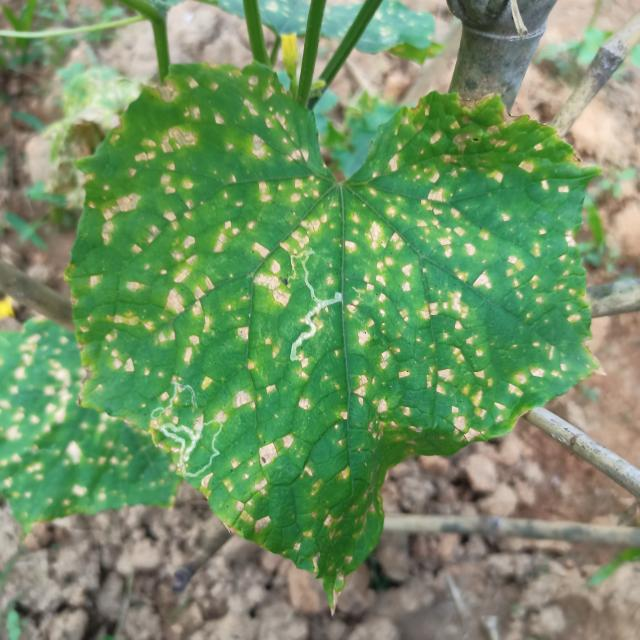disease_cucumber: (80, 76, 570, 545)
